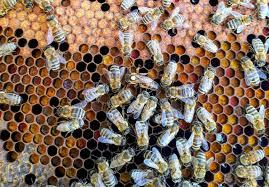Queen-Bee: (128, 71, 160, 92)
worker-bee: (142, 145, 172, 177), (246, 102, 269, 139), (237, 54, 262, 88), (97, 125, 128, 151), (45, 12, 66, 48), (109, 144, 134, 173), (195, 69, 219, 99), (108, 106, 132, 136), (159, 93, 180, 127), (152, 126, 186, 147), (226, 13, 255, 37), (133, 121, 156, 151), (249, 34, 269, 68), (158, 14, 192, 34), (194, 107, 221, 132), (96, 157, 119, 186), (190, 32, 218, 55), (108, 62, 128, 94), (194, 150, 213, 183), (129, 92, 154, 117), (160, 56, 180, 87), (176, 135, 195, 167), (80, 81, 109, 101), (40, 44, 62, 70), (237, 163, 267, 182), (148, 37, 165, 69), (113, 11, 145, 28), (58, 104, 91, 120), (192, 120, 207, 154), (56, 120, 91, 134), (109, 85, 130, 108), (236, 151, 268, 166), (119, 28, 134, 59), (163, 86, 198, 99), (140, 7, 167, 23)
